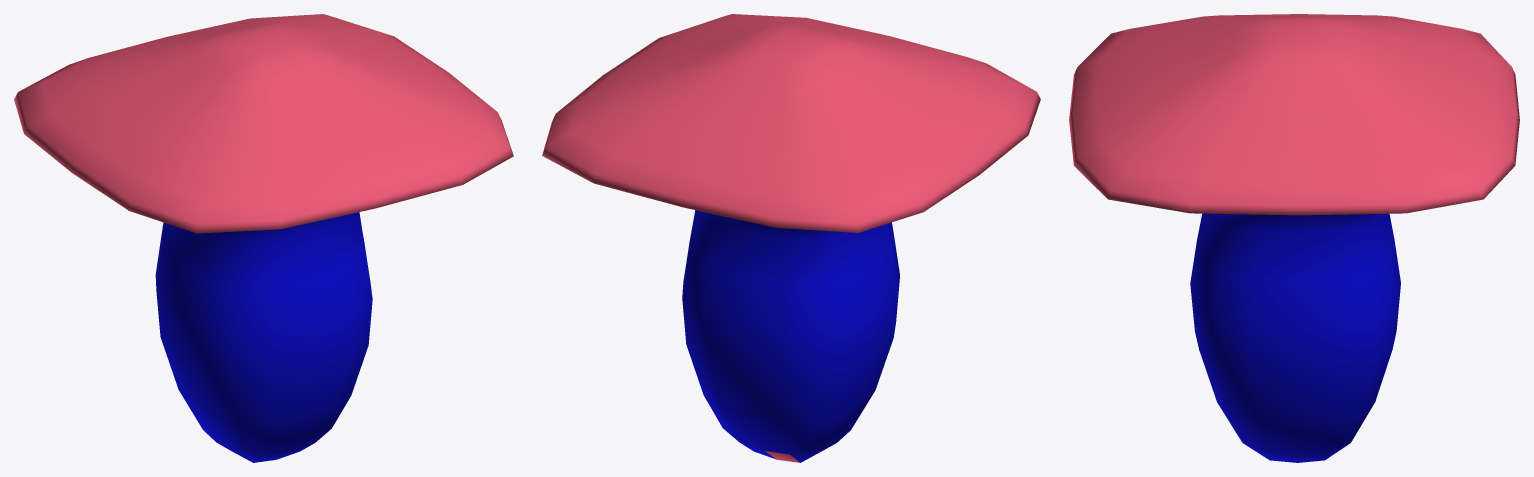
File: mushroom.fbx
The picture shows the model from 3 angles, left to right: view 1: azimuth 30°, elevation 25°; view 2: azimuth 150°, elevation 25°; view 3: azimuth 270°, elevation 25°; orthographic projection. The views are drawn at different scales.
Visible parts, largest first — view 1: Cube; view 2: Cube; view 3: Cube.
Part boxes in pixels (x1,y1,x2,y2): Cube: [14, 14, 513, 462]; Cube: [542, 14, 1040, 462]; Cube: [1069, 14, 1519, 462].
Size of the model in its own units: 621 by 639 by 621.
